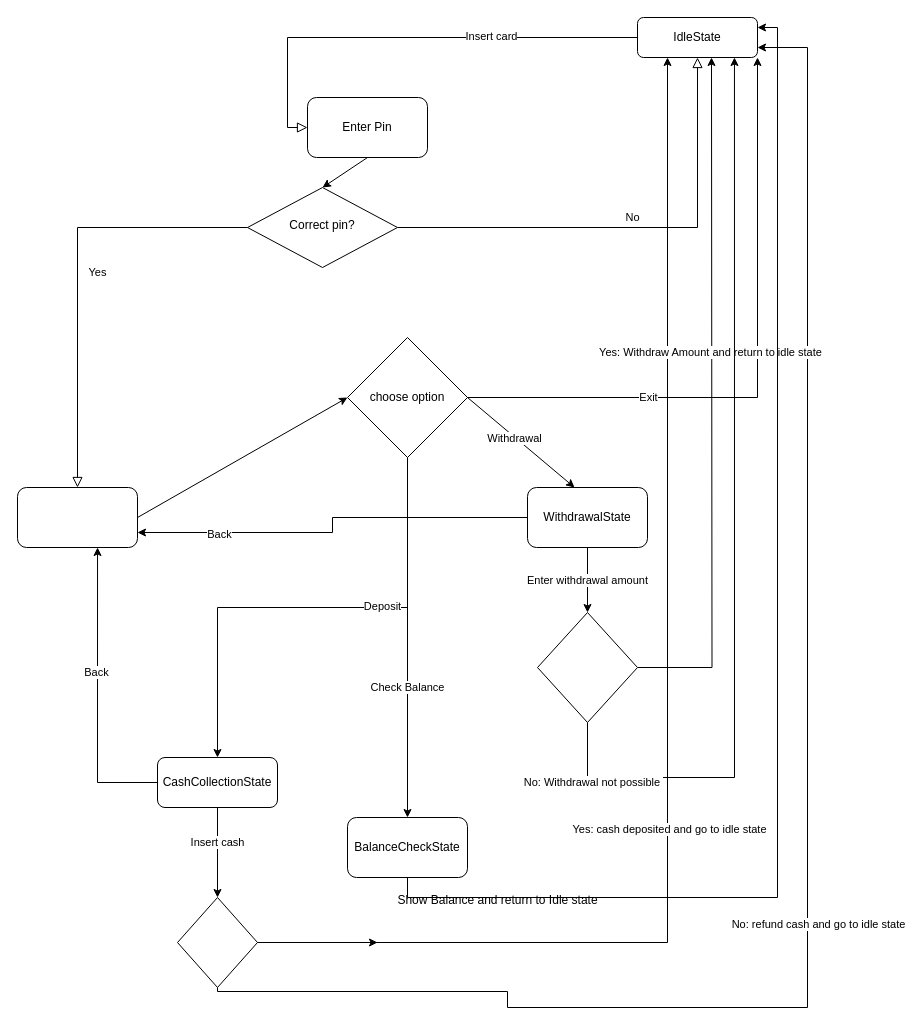
The diagram is 922 pixels wide and 1033 high, and some of its shapes have lost their labels. Here are the shapes that lost their labels. From the top down, the centre of each, then its label:
At (x=77, y=517): "OptionSelectionState".
At (x=587, y=667): "Is Amount present in atm and in the user account?".
At (x=217, y=942): "Cash Inserted?".
